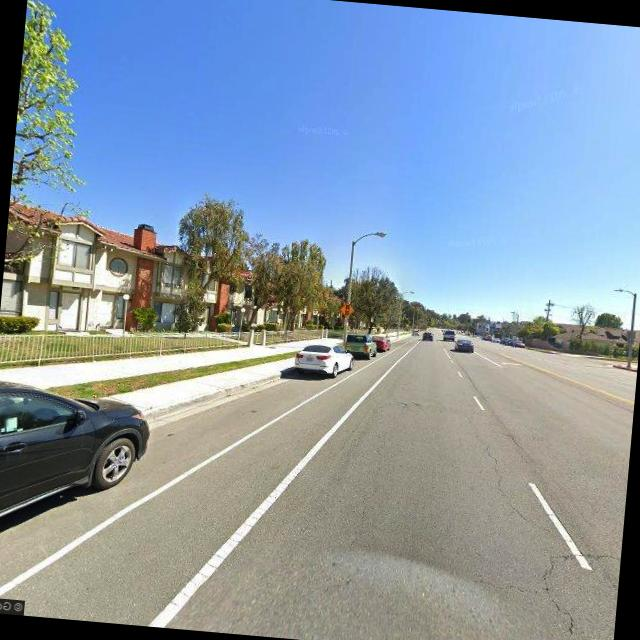pothole: (478, 439, 535, 524), (535, 551, 585, 640)
